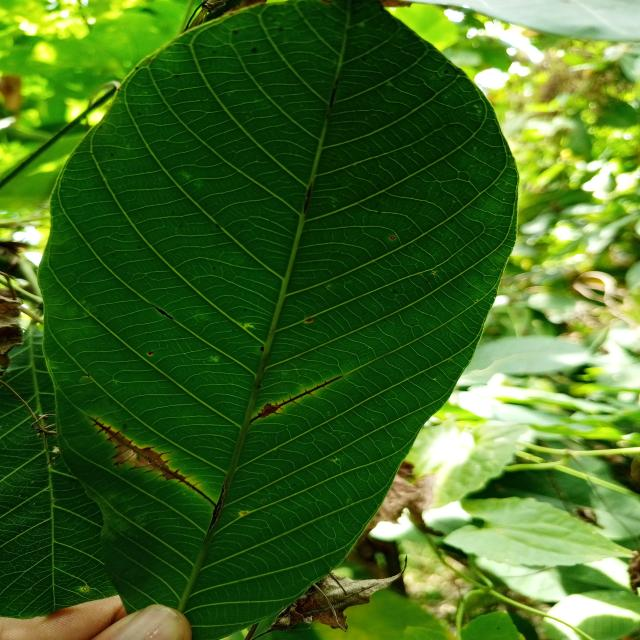Colletotrichum: (262, 499, 266, 502)
Corynespora: (87, 416, 217, 508), (248, 374, 344, 425), (201, 480, 226, 545), (148, 302, 174, 320)
